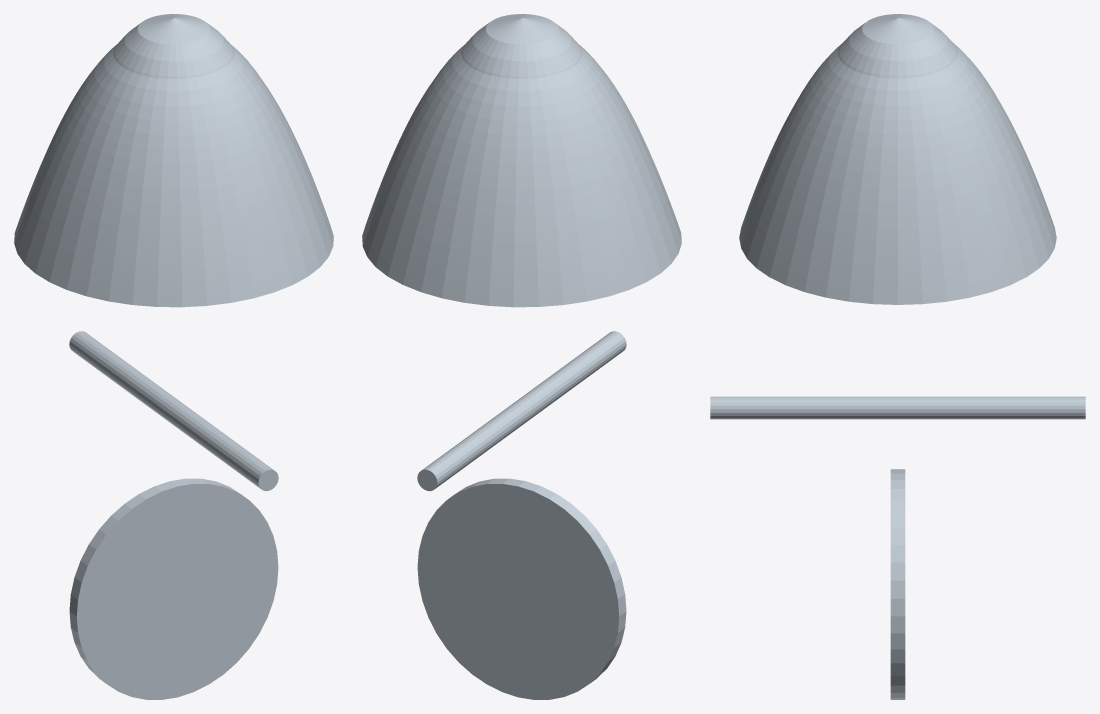
The model's file is 1789180025311_Red_Wine_Glass_glb.glb.
3 renders of one model, left to right at view 1: azimuth 30°, elevation 25°; view 2: azimuth 150°, elevation 25°; view 3: azimuth 270°, elevation 25°, orthographic.
Parts seen in each view (by area): view 1: world; view 2: world; view 3: world.
Part boxes in pixels (x1,y1,x2,y2): world: [14, 14, 333, 699]; world: [362, 14, 681, 699]; world: [710, 14, 1085, 699].
Size of the model in its own units: 0.11 by 0.2565 by 0.13.
